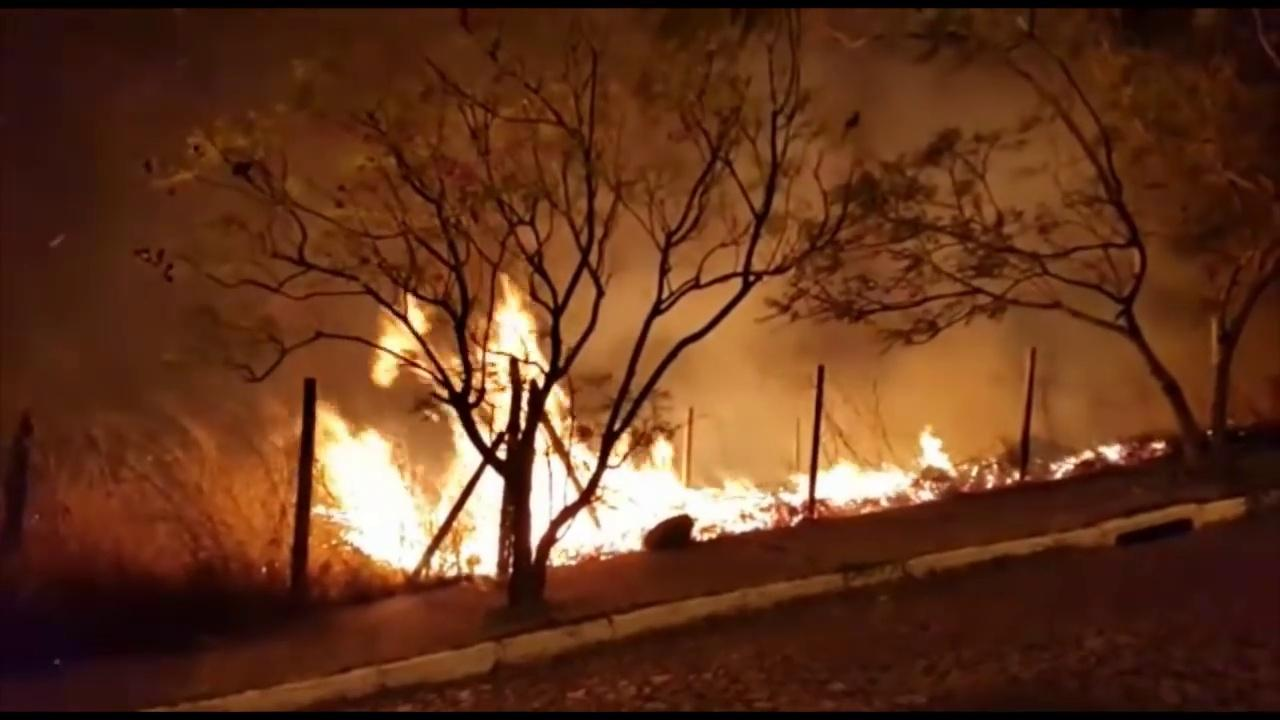fire: (310, 329, 632, 557), (653, 456, 943, 532)
smoke: (43, 294, 192, 504), (685, 287, 816, 432), (858, 63, 981, 155)
